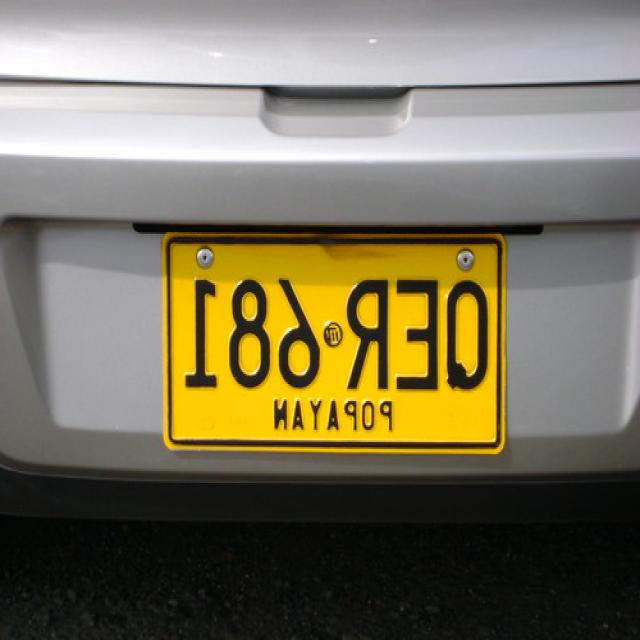placas: (175, 268, 491, 394)
